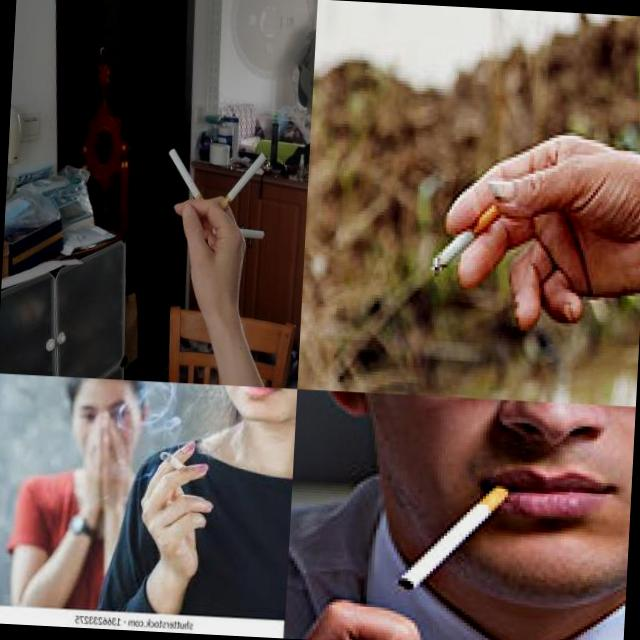smoke: (398, 472, 518, 596), (428, 199, 502, 276), (214, 150, 267, 220), (164, 146, 210, 208), (159, 450, 193, 476), (210, 227, 264, 240)
